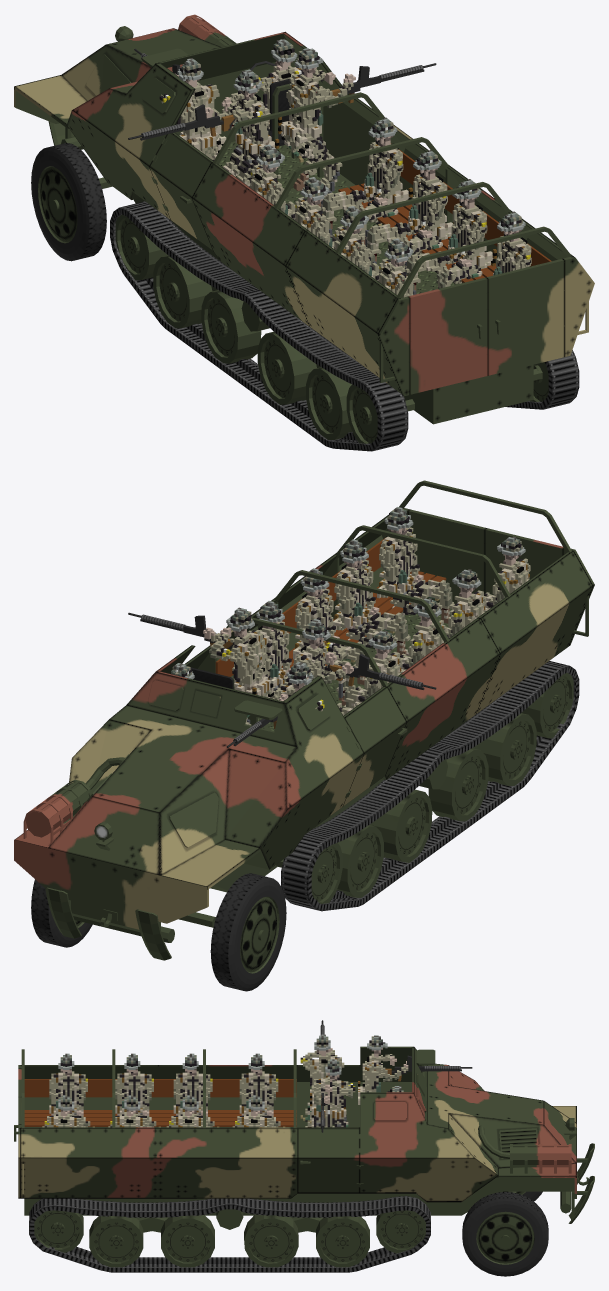
Rendered from hoha.glb.
3 renders of one model, top to bottom at view 1: azimuth 30°, elevation 25°; view 2: azimuth 150°, elevation 25°; view 3: azimuth 270°, elevation 25°, orthographic. The views are drawn at different scales.
Visible parts, largest first — view 1: 02_chassis_hoha_chassis.mesh, 11_track_hoha_track.mesh, 00_tire_hoha_wheel.mesh, crew_soldier_SLOT_03_GUNNER, crew_soldier_SLOT_07_PASSENGER, crew_soldier_SLOT_05_PASSENGER, crew_soldier_SLOT_09_PASSENGER, crew_soldier_SLOT_02_GUNNER, crew_soldier_SLOT_01_GUNNER, 10_track_hoha_track.mesh, crew_soldier_SLOT_06_PASSENGER, crew_soldier_SLOT_04_PASSENGER (+6 smaller); view 2: 02_chassis_hoha_chassis.mesh, 11_track_hoha_track.mesh, 00_tire_hoha_wheel.mesh, crew_soldier_SLOT_09_PASSENGER, crew_soldier_SLOT_11_PASSENGER, crew_soldier_SLOT_03_GUNNER, crew_soldier_SLOT_07_PASSENGER, crew_soldier_SLOT_05_PASSENGER, crew_soldier_SLOT_02_GUNNER, crew_soldier_SLOT_04_PASSENGER, crew_soldier_SLOT_08_PASSENGER, crew_soldier_SLOT_10_PASSENGER (+5 smaller); view 3: 02_chassis_hoha_chassis.mesh, 10_track_hoha_track.mesh, 01_tire_hoha_wheel.mesh, crew_soldier_SLOT_03_GUNNER, crew_soldier_SLOT_04_PASSENGER, crew_soldier_SLOT_08_PASSENGER, crew_soldier_SLOT_10_PASSENGER, crew_soldier_SLOT_06_PASSENGER, crew_soldier_SLOT_01_GUNNER, crew_soldier_SLOT_02_GUNNER, crew_soldier_SLOT_11_PASSENGER, crew_soldier_SLOT_05_PASSENGER (+3 smaller).
Part boxes in pixels (x1,y1,x2,y2): 02_chassis_hoha_chassis.mesh: (14, 14, 594, 424); 11_track_hoha_track.mesh: (110, 201, 408, 451); 00_tire_hoha_wheel.mesh: (31, 143, 106, 261); crew_soldier_SLOT_03_GUNNER: (278, 48, 355, 206); crew_soldier_SLOT_07_PASSENGER: (365, 150, 453, 268); crew_soldier_SLOT_05_PASSENGER: (321, 117, 412, 244); crew_soldier_SLOT_09_PASSENGER: (405, 179, 496, 290); crew_soldier_SLOT_02_GUNNER: (205, 69, 279, 186); crew_soldier_SLOT_01_GUNNER: (159, 58, 226, 160); 10_track_hoha_track.mesh: (505, 350, 579, 409); crew_soldier_SLOT_06_PASSENGER: (294, 177, 376, 265); crew_soldier_SLOT_04_PASSENGER: (250, 144, 332, 236); 02_chassis_hoha_chassis.mesh: (14, 480, 594, 960); 11_track_hoha_track.mesh: (281, 661, 579, 911); 00_tire_hoha_wheel.mesh: (210, 873, 286, 991); crew_soldier_SLOT_09_PASSENGER: (333, 539, 410, 656); crew_soldier_SLOT_11_PASSENGER: (377, 507, 454, 623); crew_soldier_SLOT_03_GUNNER: (203, 607, 276, 725); crew_soldier_SLOT_07_PASSENGER: (293, 568, 370, 705); crew_soldier_SLOT_05_PASSENGER: (256, 601, 291, 698); crew_soldier_SLOT_02_GUNNER: (290, 619, 353, 686); crew_soldier_SLOT_04_PASSENGER: (337, 630, 402, 715); crew_soldier_SLOT_08_PASSENGER: (445, 569, 486, 638); crew_soldier_SLOT_10_PASSENGER: (477, 536, 530, 611); 02_chassis_hoha_chassis.mesh: (14, 1046, 594, 1232); 10_track_hoha_track.mesh: (29, 1196, 430, 1272); 01_tire_hoha_wheel.mesh: (462, 1192, 548, 1276); crew_soldier_SLOT_03_GUNNER: (311, 1059, 355, 1127); crew_soldier_SLOT_04_PASSENGER: (232, 1053, 284, 1127); crew_soldier_SLOT_08_PASSENGER: (108, 1053, 160, 1127); crew_soldier_SLOT_10_PASSENGER: (42, 1053, 94, 1127); crew_soldier_SLOT_06_PASSENGER: (166, 1053, 218, 1127); crew_soldier_SLOT_01_GUNNER: (358, 1035, 408, 1104); crew_soldier_SLOT_02_GUNNER: (300, 1034, 346, 1127); crew_soldier_SLOT_11_PASSENGER: (44, 1095, 83, 1127); crew_soldier_SLOT_05_PASSENGER: (235, 1095, 273, 1127).
Size of the model in its own units: 3.59 by 2.9 by 7.94.
Materials: 39 (3 with a texture image).
